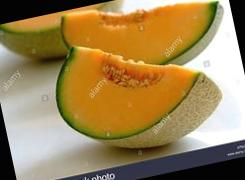Melon Ripe: (45, 16, 230, 166), (57, 0, 233, 88)
